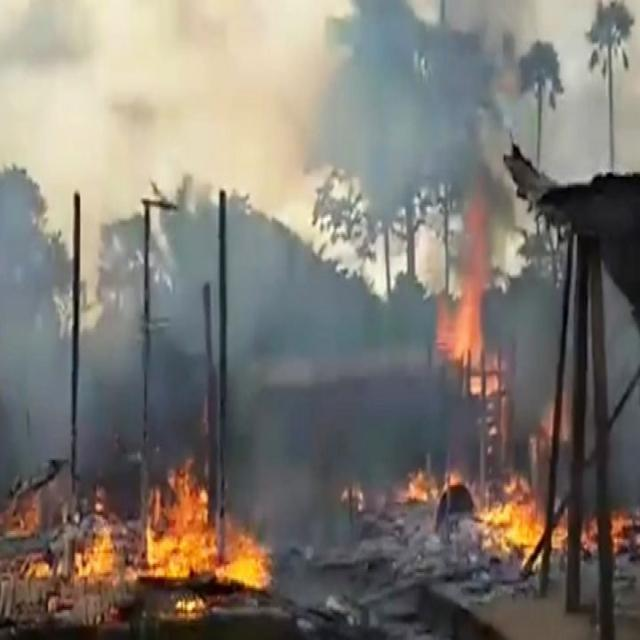Fire: (142, 437, 280, 620), (417, 172, 509, 390), (468, 466, 632, 580), (12, 513, 125, 600), (396, 461, 466, 515)
Smoke: (272, 0, 555, 242)
